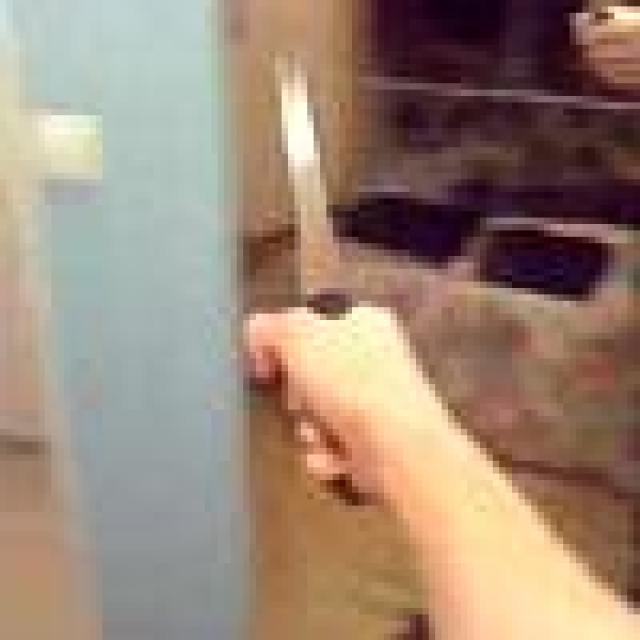faca: (218, 19, 468, 538)
